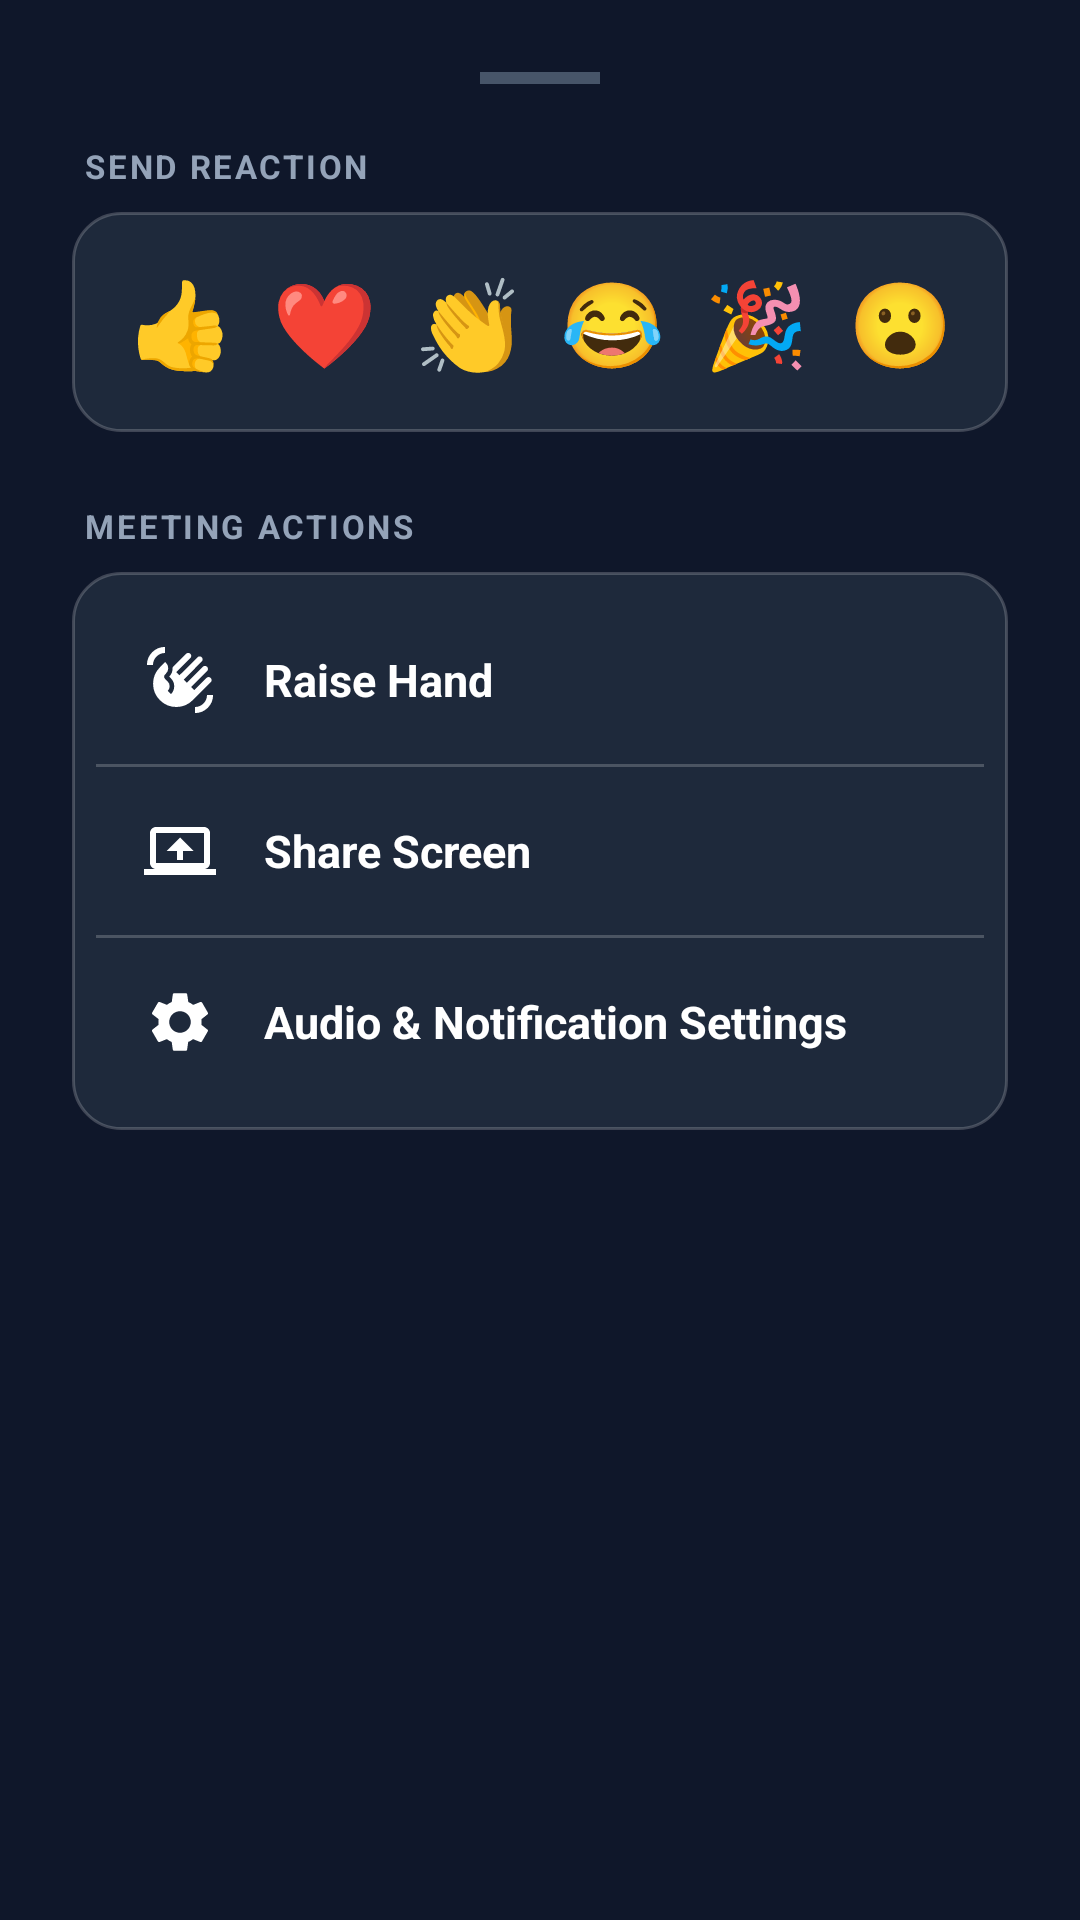

Named icons in this screenshot (1080×1920) and their centers, (x=x, y=y):
waving hand: (x=180, y=680)
